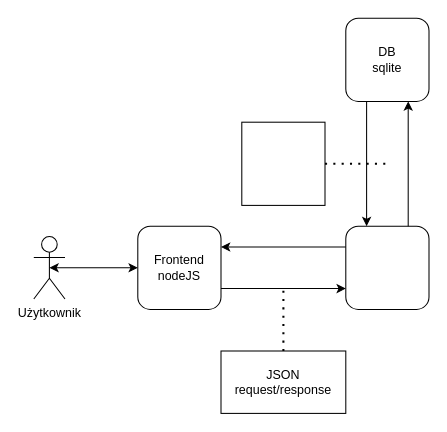
This 447x432 diagram has some shape labels left out. The shapes that lost their labels are listed below. From the top down, each one's centre as x and y in pixels, then its label:
At [283,163]: "Records".
At [387,267]: "Backend python".
